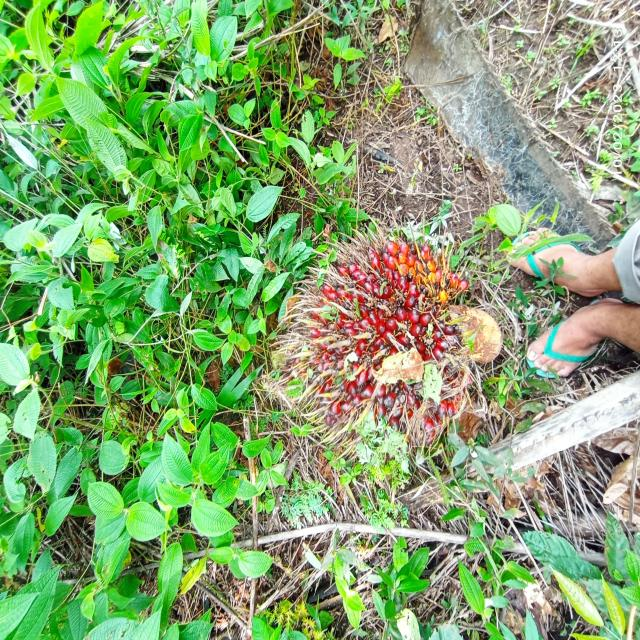fraksi 3: (278, 218, 480, 485)
